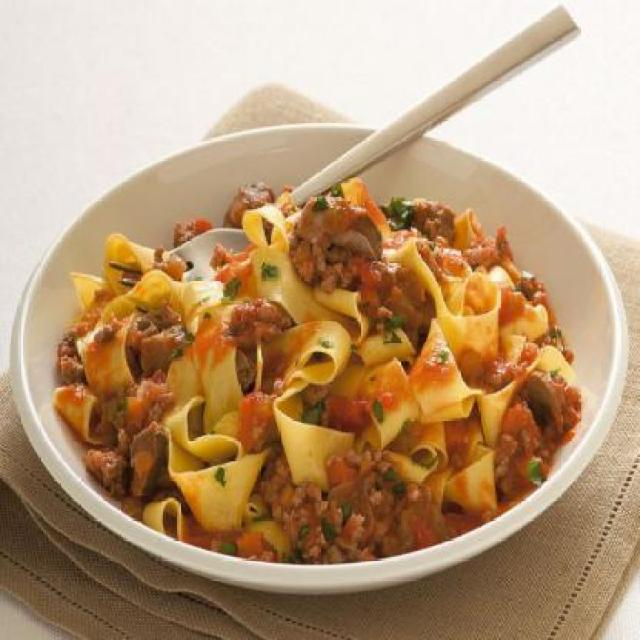Pasta al ragu: (45, 144, 628, 573)
